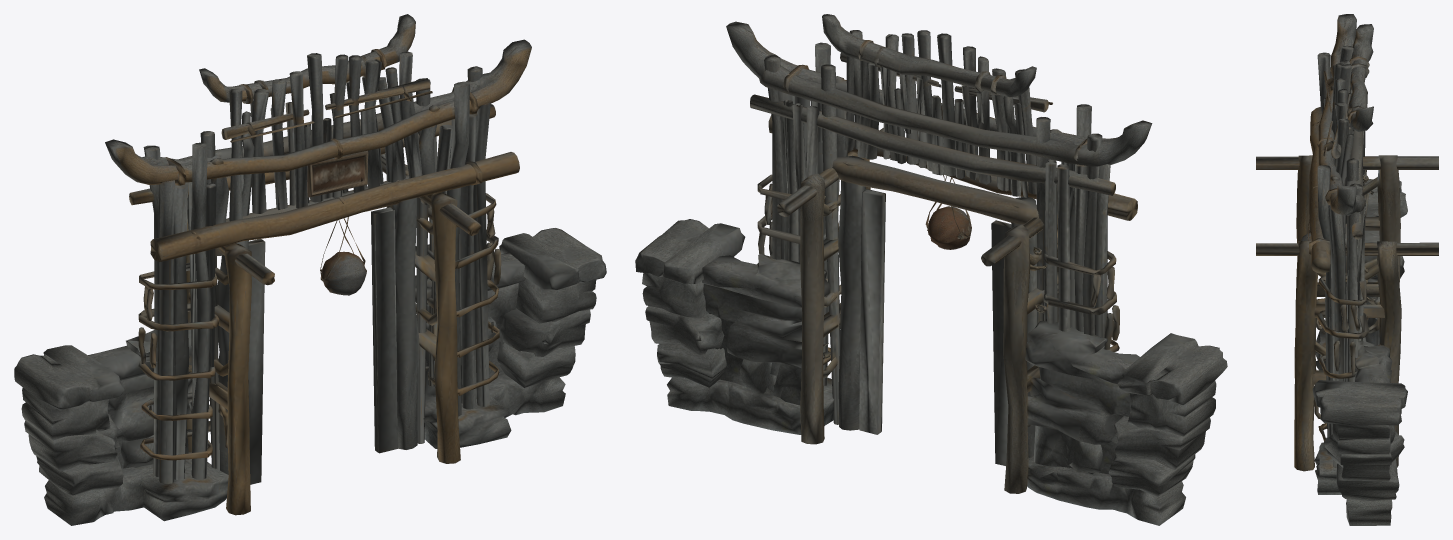
Rendered from CongLang_ChienLuy.fbx.
3 renders of one model, left to right at view 1: azimuth 30°, elevation 25°; view 2: azimuth 150°, elevation 25°; view 3: azimuth 270°, elevation 25°, orthographic. The views are drawn at different scales.
Parts seen in each view (by area): view 1: Mesh_0; view 2: Mesh_0; view 3: Mesh_0.
Boxes of the visible parts, x1=… form: Mesh_0: x1=14, y1=14, x2=606, y2=525; Mesh_0: x1=635, y1=14, x2=1227, y2=525; Mesh_0: x1=1256, y1=14, x2=1438, y2=525.
Size of the model in its own units: 95.36 by 69.29 by 31.93.
Materials: 1 (1 with a texture image).
